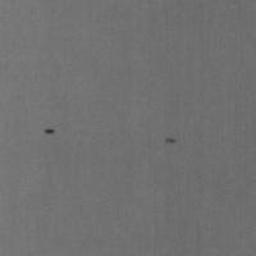Inclusion: (165, 137, 178, 145), (44, 128, 55, 134)
